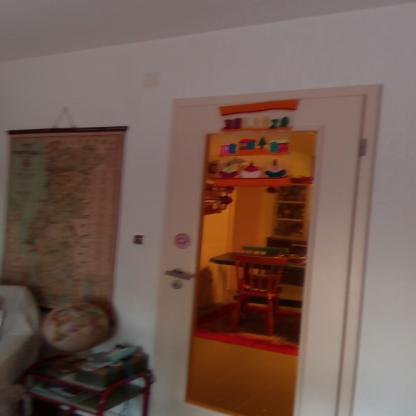door: (160, 101, 362, 416)
hinged: (356, 136, 368, 160)
lever: (166, 268, 198, 284)
